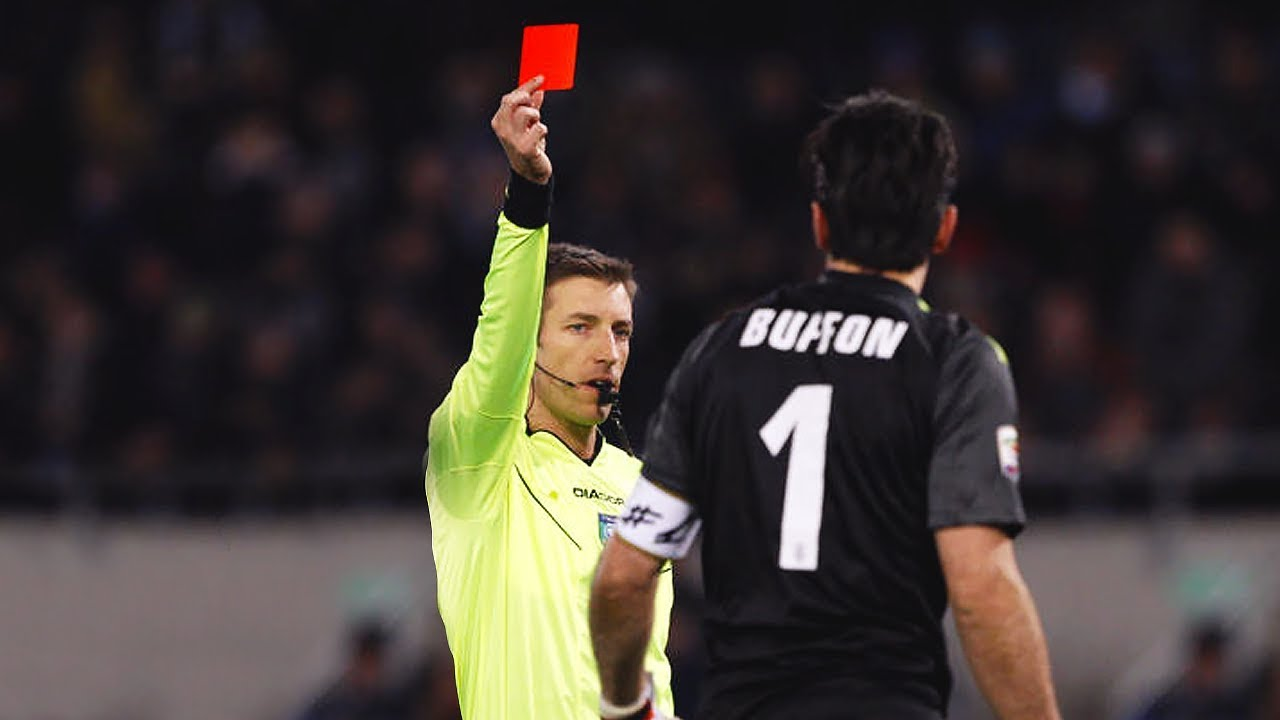red_card: (493, 17, 588, 185)
